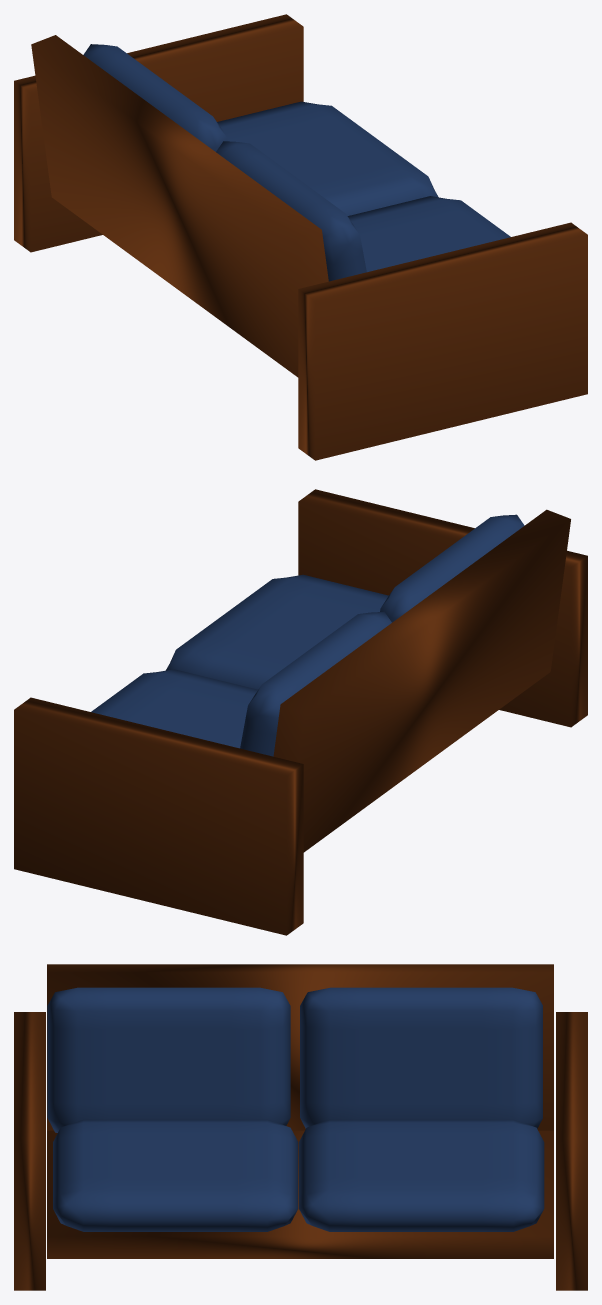
The model's file is CPI441_Fur_Couch_1_V2_Blue.fbx.
The picture shows the model from 3 angles, top to bottom: view 1: azimuth 30°, elevation 25°; view 2: azimuth 150°, elevation 25°; view 3: azimuth 270°, elevation 25°; orthographic projection. The views are drawn at different scales.
Parts seen in each view (by area): view 1: Cube.002; view 2: Cube.002; view 3: Cube.002.
Boxes of the visible parts, left/top/right/bottom form: Cube.002: left=14, top=14, right=587, bottom=460; Cube.002: left=14, top=489, right=587, bottom=935; Cube.002: left=14, top=964, right=587, bottom=1290.
Bounding box in the file's own units: 375 × 267 × 685.
